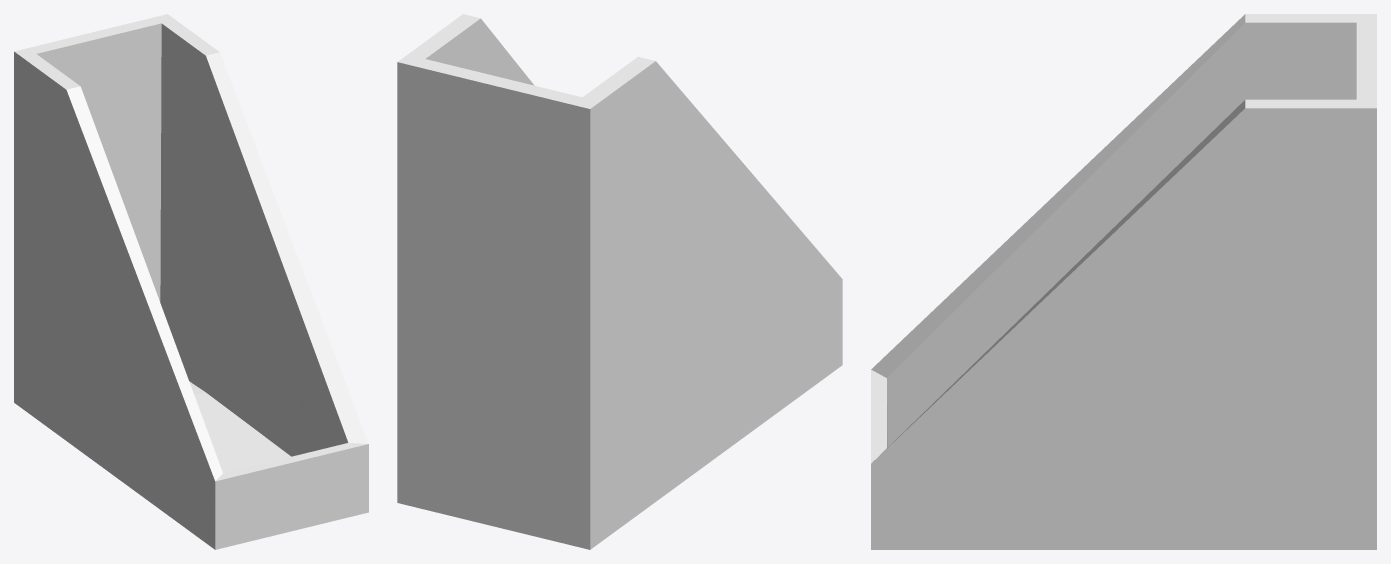
Rendered from folder for documents.001.fbx.
The picture shows the model from 3 angles, left to right: view 1: azimuth 30°, elevation 25°; view 2: azimuth 150°, elevation 25°; view 3: azimuth 270°, elevation 25°; orthographic projection. The views are drawn at different scales.
Parts seen in each view (by area): view 1: folder for documents.001; view 2: folder for documents.001; view 3: folder for documents.001.
Boxes of the visible parts, x1=… form: folder for documents.001: x1=14, y1=14, x2=368, y2=549; folder for documents.001: x1=397, y1=14, x2=842, y2=549; folder for documents.001: x1=871, y1=14, x2=1376, y2=549.
Bounding box in the file's own units: 0.3339 × 0.7296 × 0.7572.
1 material, 1 textured.
